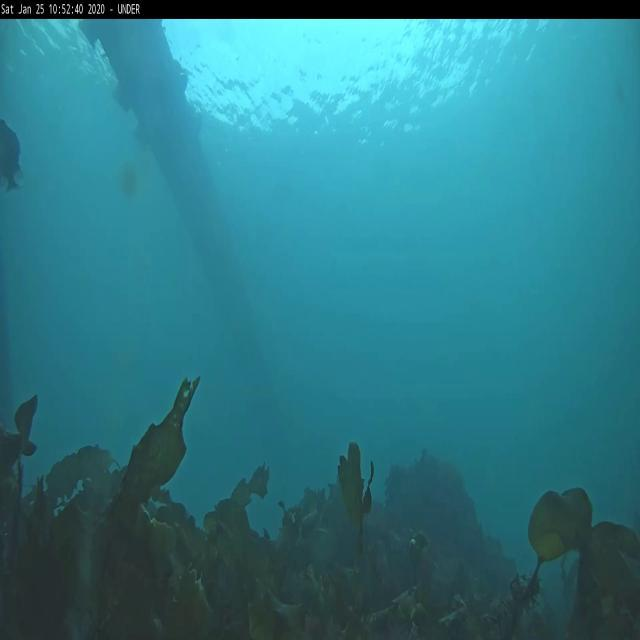fish: (0, 120, 25, 194)
